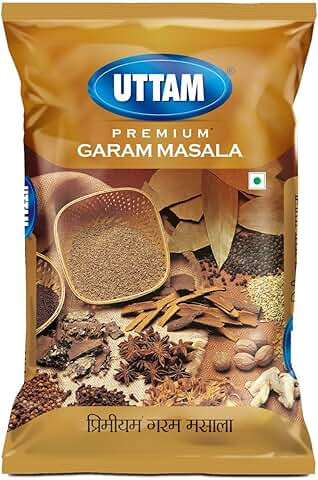Garamasala: (2, 1, 318, 480)
